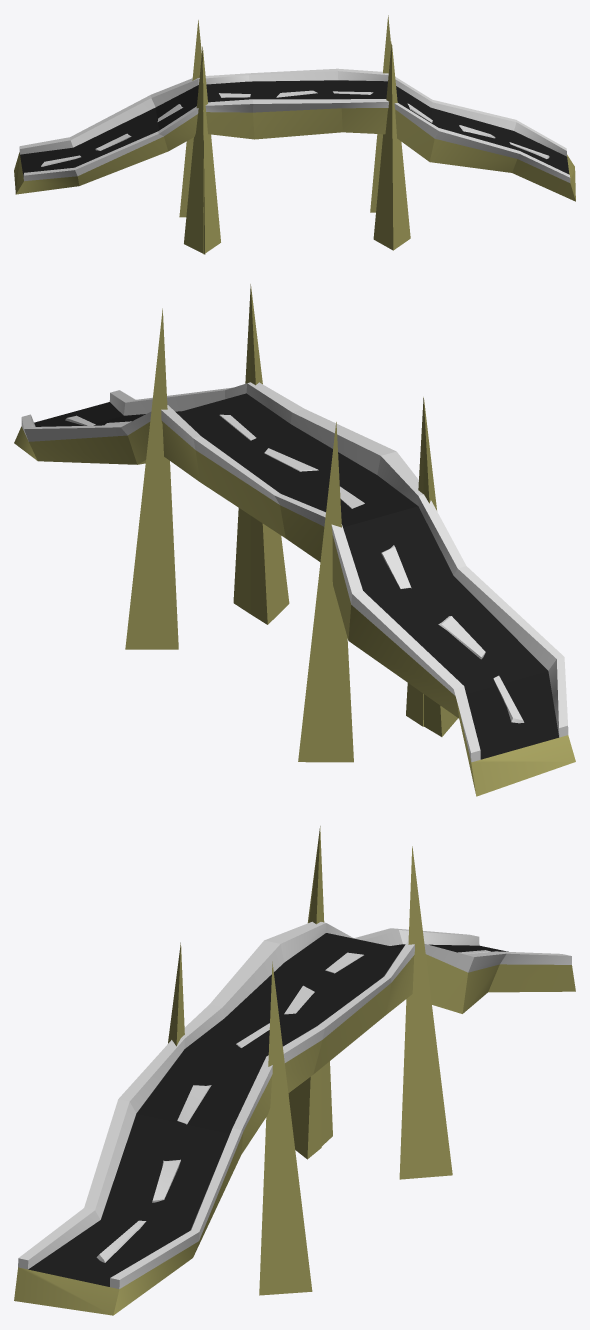
The model's file is c_bridge_beach.fbx.
The picture shows the model from 3 angles, top to bottom: view 1: azimuth 30°, elevation 25°; view 2: azimuth 150°, elevation 25°; view 3: azimuth 270°, elevation 25°; orthographic projection. The views are drawn at different scales.
Parts seen in each view (by area): view 1: c_bridge_beach; view 2: c_bridge_beach; view 3: c_bridge_beach.
Boxes of the visible parts, x1,y1,x2,y2 form: c_bridge_beach: (14, 15, 575, 254); c_bridge_beach: (14, 284, 575, 796); c_bridge_beach: (14, 826, 575, 1315).
Size of the model in its own units: 27.22 by 11.51 by 18.17.
